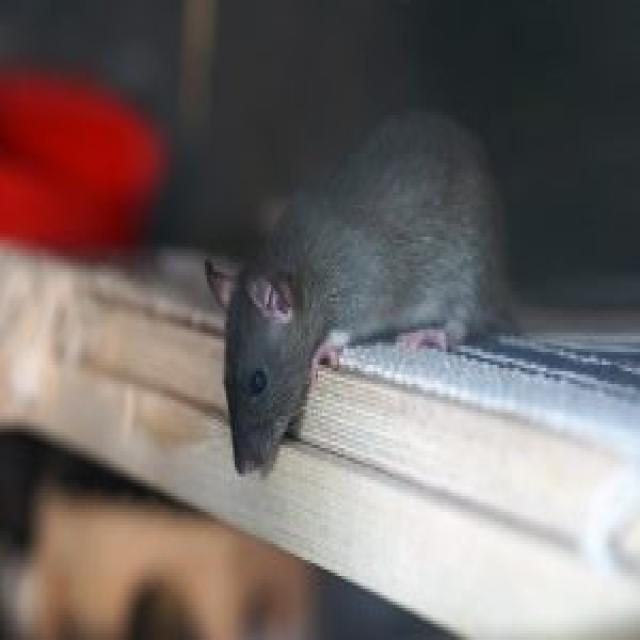rat: (200, 80, 538, 487)
